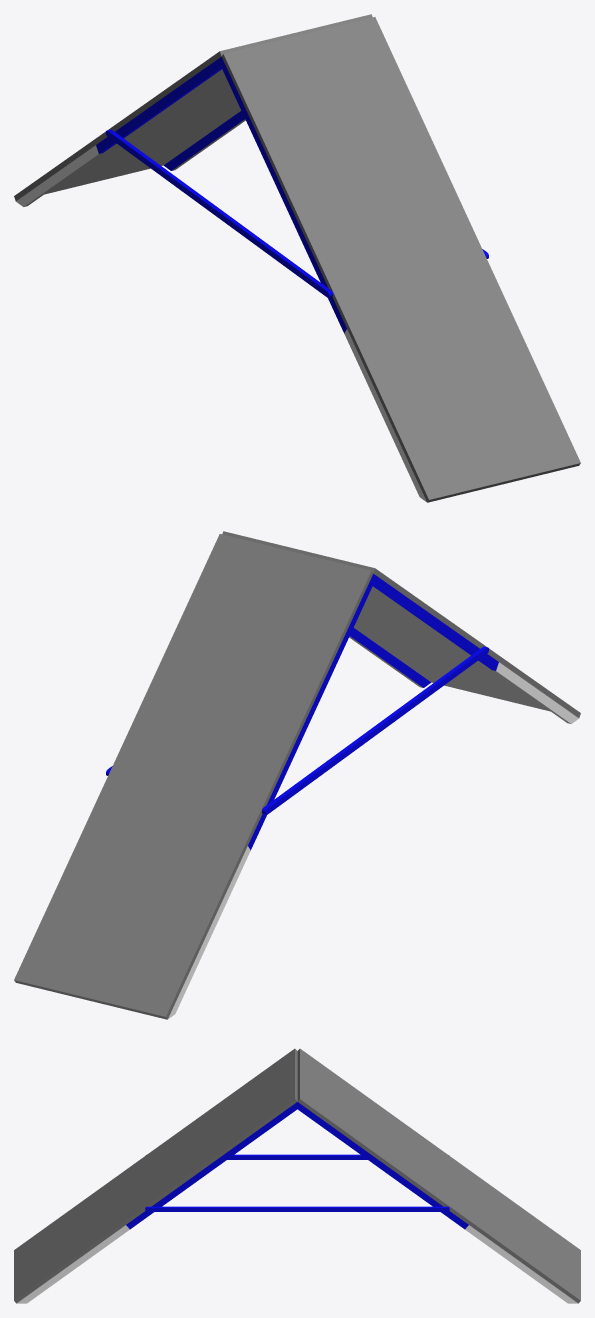
The model's file is Contact-1.gltf.
The picture shows the model from 3 angles, top to bottom: view 1: azimuth 30°, elevation 25°; view 2: azimuth 150°, elevation 25°; view 3: azimuth 270°, elevation 25°; orthographic projection. The views are drawn at different scales.
Parts seen in each view (by area): view 1: side (×2), edge; view 2: side (×2), edge; view 3: side (×2), edge (×2).
Part boxes in pixels (x1,y1,x2,y2): side (×2): (14,14,580,502); edge: (106,129,332,297); side (×2): (14,531,580,1019); edge: (262,646,488,814); side (×2): (14,1048,580,1303); edge (×2): (145,1154,449,1211).
Bounding box in the file's own units: 0.964 × 1.72 × 4.33.
